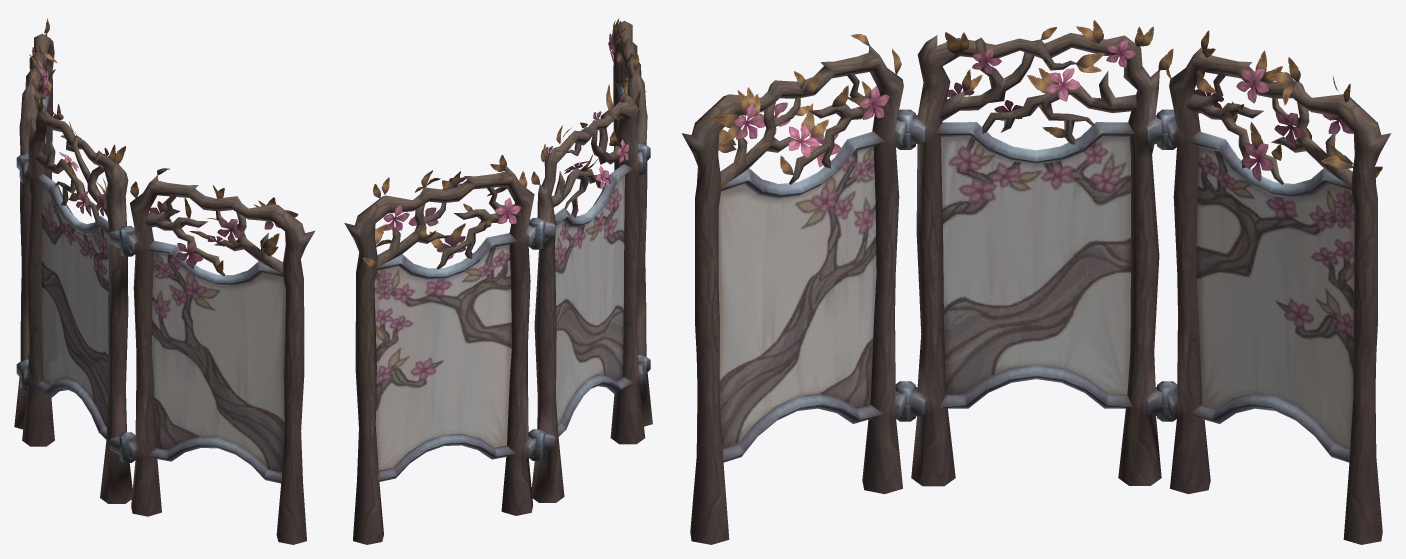
3 views of the same model, side by side, from view 1: azimuth 30°, elevation 25°; view 2: azimuth 150°, elevation 25°; view 3: azimuth 270°, elevation 25° (orthographic). The views are drawn at different scales.
Bounding box in the file's own units: 1.36 × 3.93 × 5.44.
Materials: 8 (8 with a texture image).
